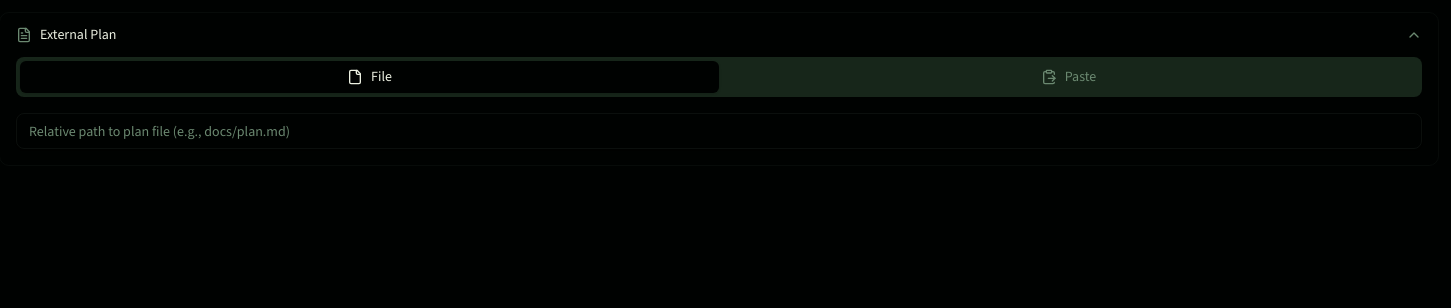
Test case: PlanImportSection › input modes › switches back to "File Path" mode
This screenshot has width=1451, height=308.
Switch to Paste
Click the radio button labelled "Paste": [1068, 77] box [719,61,1418,93]
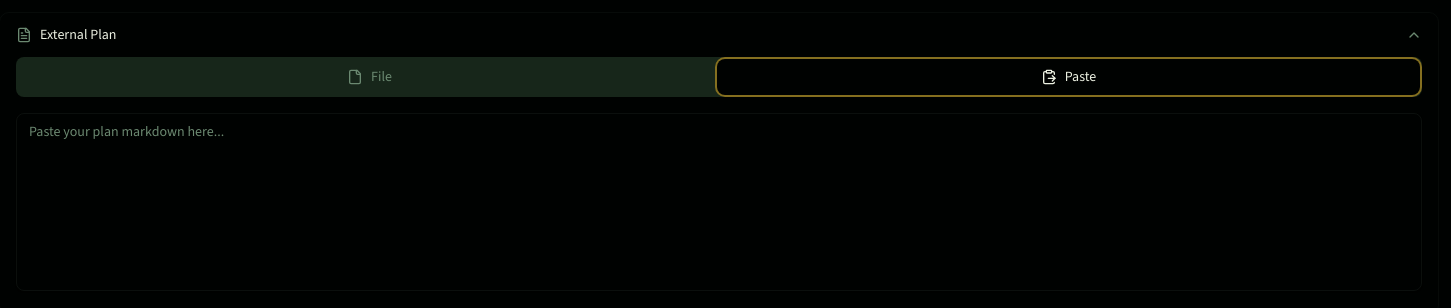
Switch back to File
Click the radio button labelled "File": [370, 77] box [20,61,719,93]
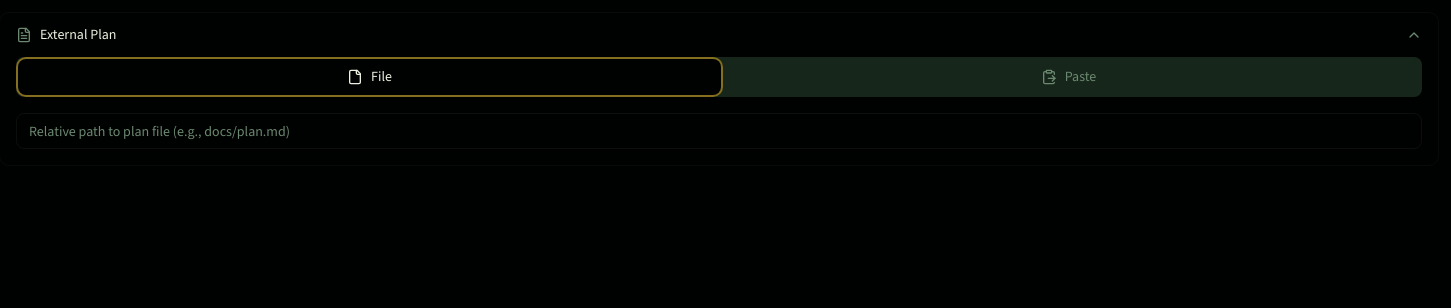
Expected: the field with placeholder "Relative path to plan file (e.g., docs/plan.md)" is shown, [16,113,1422,149]
